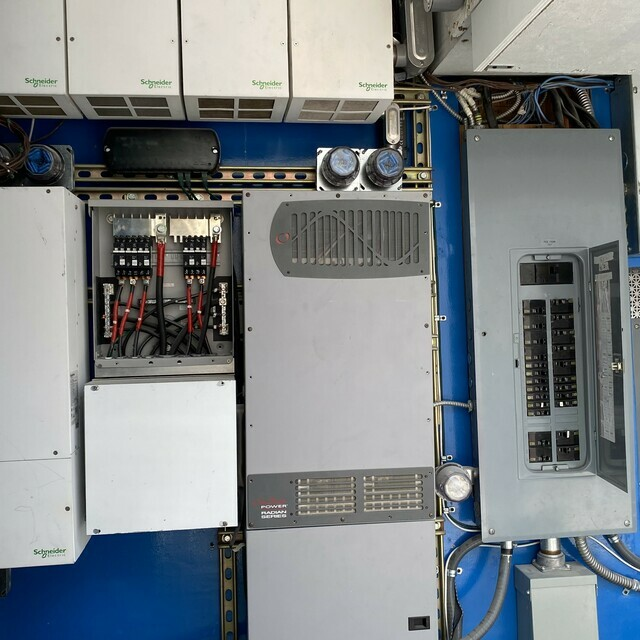inverter: (234, 184, 447, 640)
